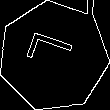L_E: (24, 33, 83, 79)
